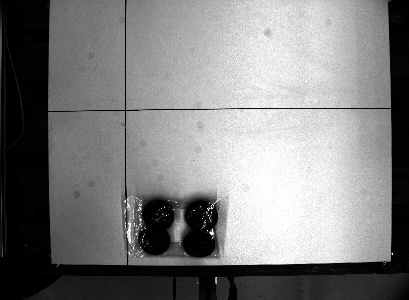t1: (118, 188, 226, 262)
